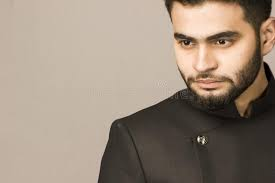Indian_Male: (162, 1, 259, 97)
